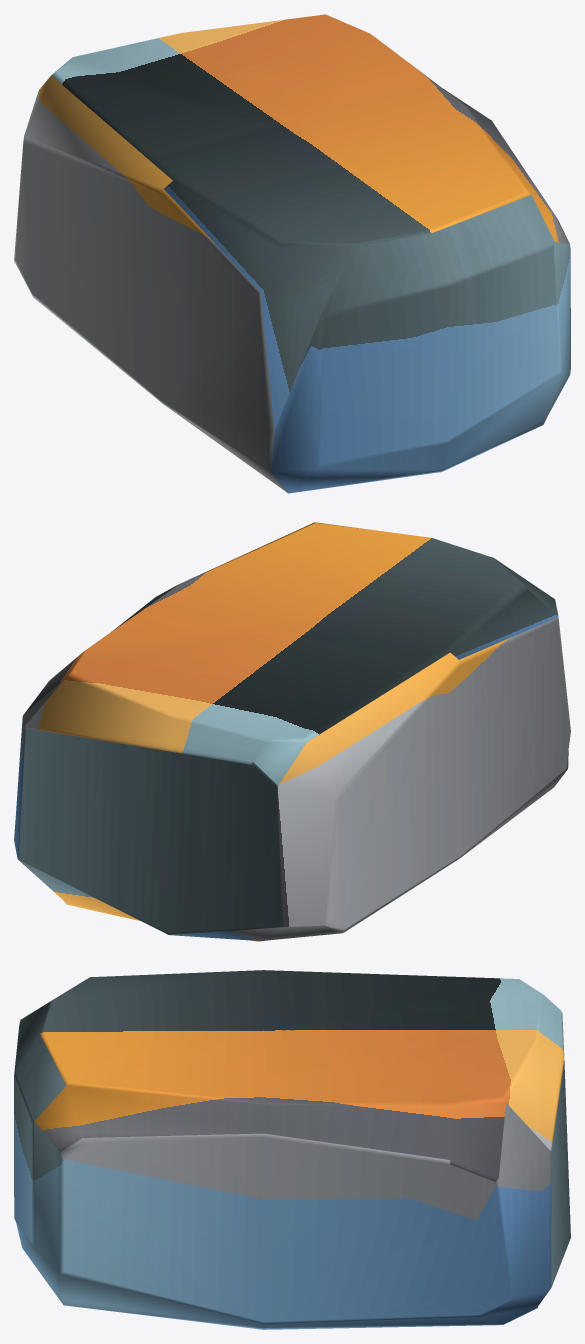
The model's file is CharSkyKid_Prop_Brick.glb.
The picture shows the model from 3 angles, top to bottom: view 1: azimuth 30°, elevation 25°; view 2: azimuth 150°, elevation 25°; view 3: azimuth 270°, elevation 25°; orthographic projection. The views are drawn at different scales.
Parts seen in each view (by area): view 1: CharSkyKid_Prop_Brick; view 2: CharSkyKid_Prop_Brick; view 3: CharSkyKid_Prop_Brick.
Boxes of the visible parts, left/top/right/bottom form: CharSkyKid_Prop_Brick: left=14, top=14, right=570, bottom=493; CharSkyKid_Prop_Brick: left=14, top=522, right=570, bottom=941; CharSkyKid_Prop_Brick: left=14, top=970, right=570, bottom=1329.
Bounding box in the file's own units: 0.4369 × 0.2787 × 0.6378.
Materials: 1 (1 with a texture image).
